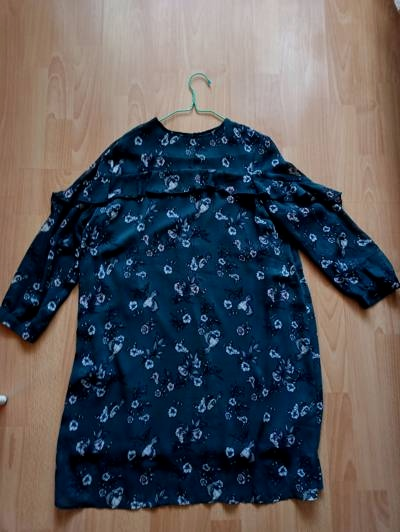Dress: (0, 95, 391, 517)
